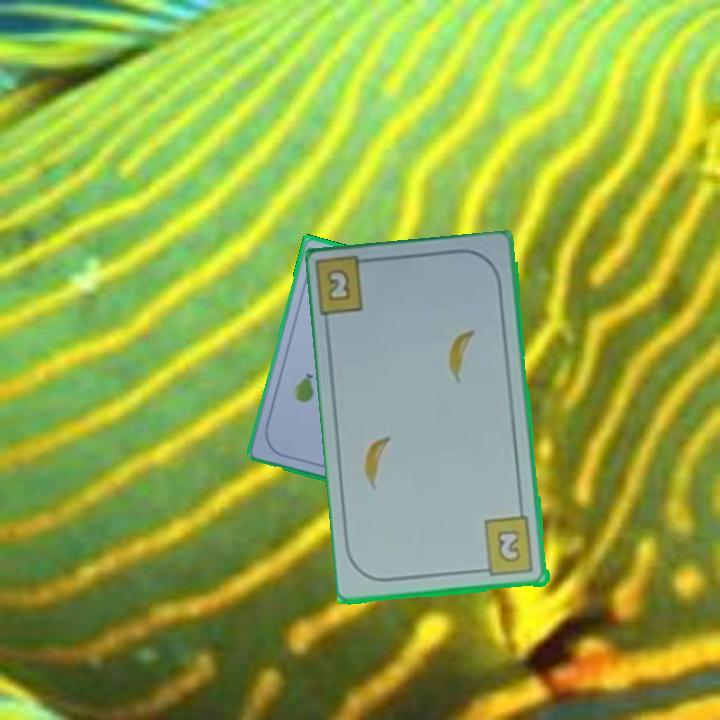2b: (476, 514, 537, 579), (324, 269, 354, 305)
